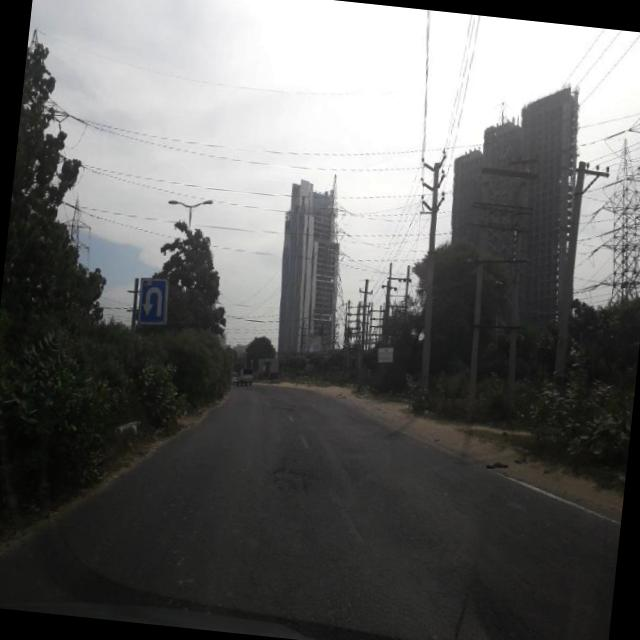crack: (97, 440, 623, 640)
pothole: (253, 452, 320, 504)
